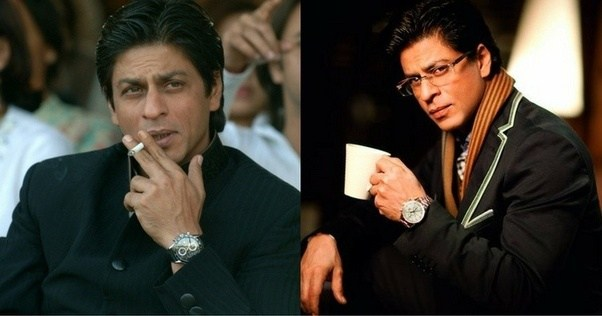cigarette: (123, 133, 149, 161)
